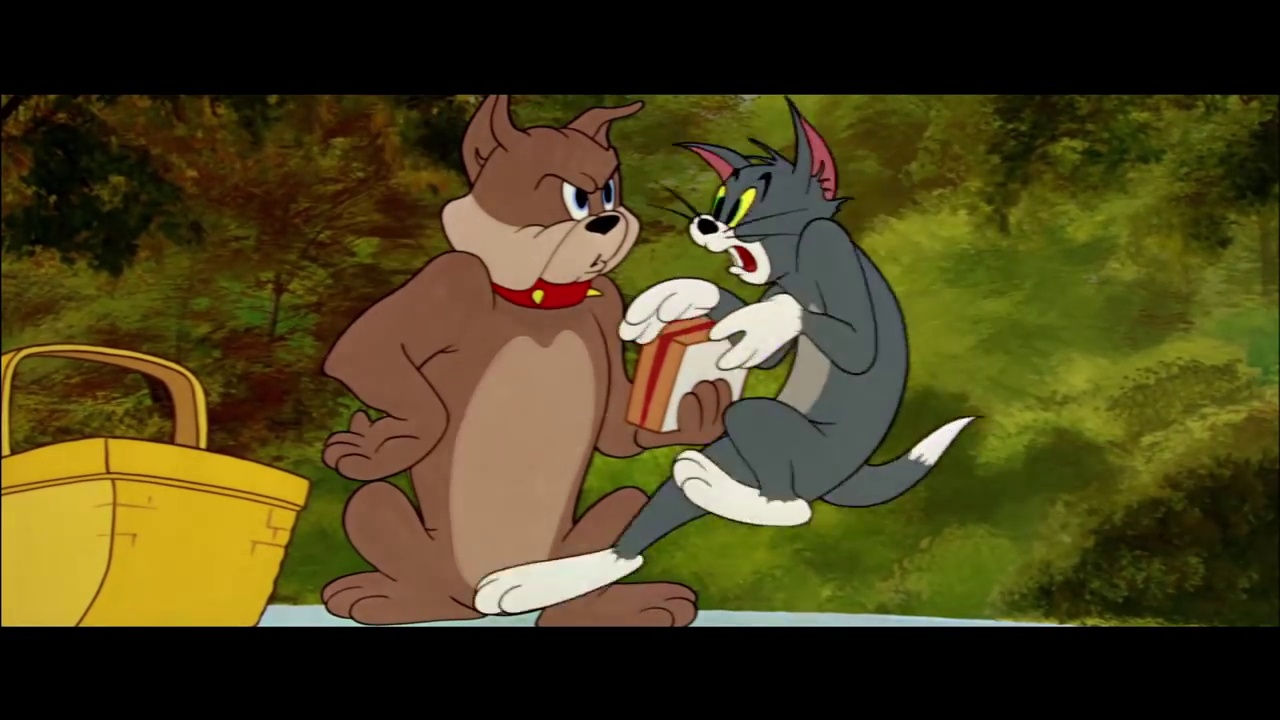spike: (441, 88, 648, 315)
tom: (674, 95, 861, 297)
